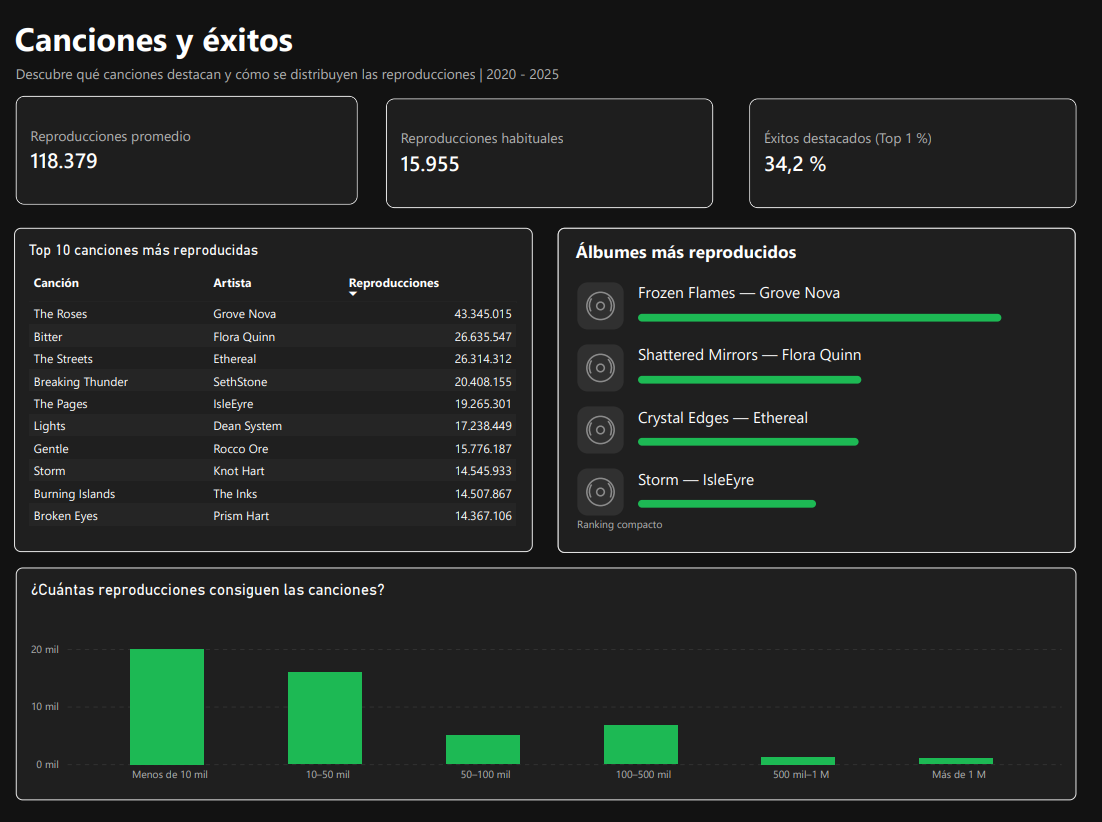

What the dashboard file says about the page in this screenshot:
{"tool":"powerbi","page":{"name":"Canciones y éxitos","canvas":[1280,960],"ordinal":2},"visuals":[{"type":"textbox","box":[19.9,21.7,655.1,67],"z":0},{"type":"textbox","box":[20.5,77.2,713,27.7],"z":1000},{"type":"cardVisual","fields":{"Data":["spotify_streaming_clean.Reproducciones promedio"]},"box":[20.9,114.4,396,125.4],"z":2000},{"type":"cardVisual","fields":{"Data":["spotify_streaming_clean.Reproducciones habituales"]},"box":[450.1,116.8,378.8,126.7],"z":3000},{"type":"cardVisual","fields":{"Data":["spotify_streaming_clean.Reproducciones Top 1 %"]},"box":[870.7,116.8,378.8,126.7],"z":4000},{"type":"tableEx","title":"Top 10 canciones más reproducidas","fields":{"Values":["spotify_streaming_clean.track_name","spotify_streaming_clean.artist_name","spotify_streaming_clean.Total Streams"]},"box":[19.3,266.6,600.8,376.4],"z":5000},{"type":"tableEx","title":"Álbumes más reproducidos","fields":{"Values":["spotify_streaming_clean.Álbum y artista","spotify_streaming_clean.Total Streams"]},"box":[649.2,267.2,600.1,376.9],"z":6000},{"type":"deneb7E15AEF80B9E4D4F8E12924291ECE89A","fields":{"dataset":["spotify_streaming_clean.Álbum y artista","spotify_streaming_clean.Total Streams"]},"box":[649.2,267.2,600.1,376.9],"z":7000},{"type":"clusteredColumnChart","title":"¿Cuántas reproducciones consiguen las canciones?","fields":{"Category":["spotify_streaming_clean.Rango de reproducciones"],"Y":["spotify_streaming_clean.Total Tracks"]},"box":[20.9,661.1,1229,270.2],"z":8000}]}

Visuals, with their boxes in screenshot pixels (x1, y1, x2, y2), scaled from the page's 1280x960 canvas onto the 1102x822 screenshot:
textbox: pyautogui.locateOnScreen(17, 19, 581, 76)
textbox: pyautogui.locateOnScreen(18, 66, 631, 90)
cardVisual - spotify_streaming_clean.Reproducciones promedio: pyautogui.locateOnScreen(18, 98, 359, 205)
cardVisual - spotify_streaming_clean.Reproducciones habituales: pyautogui.locateOnScreen(388, 100, 714, 208)
cardVisual - spotify_streaming_clean.Reproducciones Top 1 %: pyautogui.locateOnScreen(750, 100, 1076, 208)
"Top 10 canciones más reproducidas" tableEx: pyautogui.locateOnScreen(17, 228, 534, 551)
"Álbumes más reproducidos" tableEx: pyautogui.locateOnScreen(559, 229, 1076, 552)
deneb7E15AEF80B9E4D4F8E12924291ECE89A - spotify_streaming_clean.Álbum y artista x spotify_streaming_clean.Total Streams: pyautogui.locateOnScreen(559, 229, 1076, 552)
"¿Cuántas reproducciones consiguen las canciones?" clusteredColumnChart: pyautogui.locateOnScreen(18, 566, 1076, 797)
